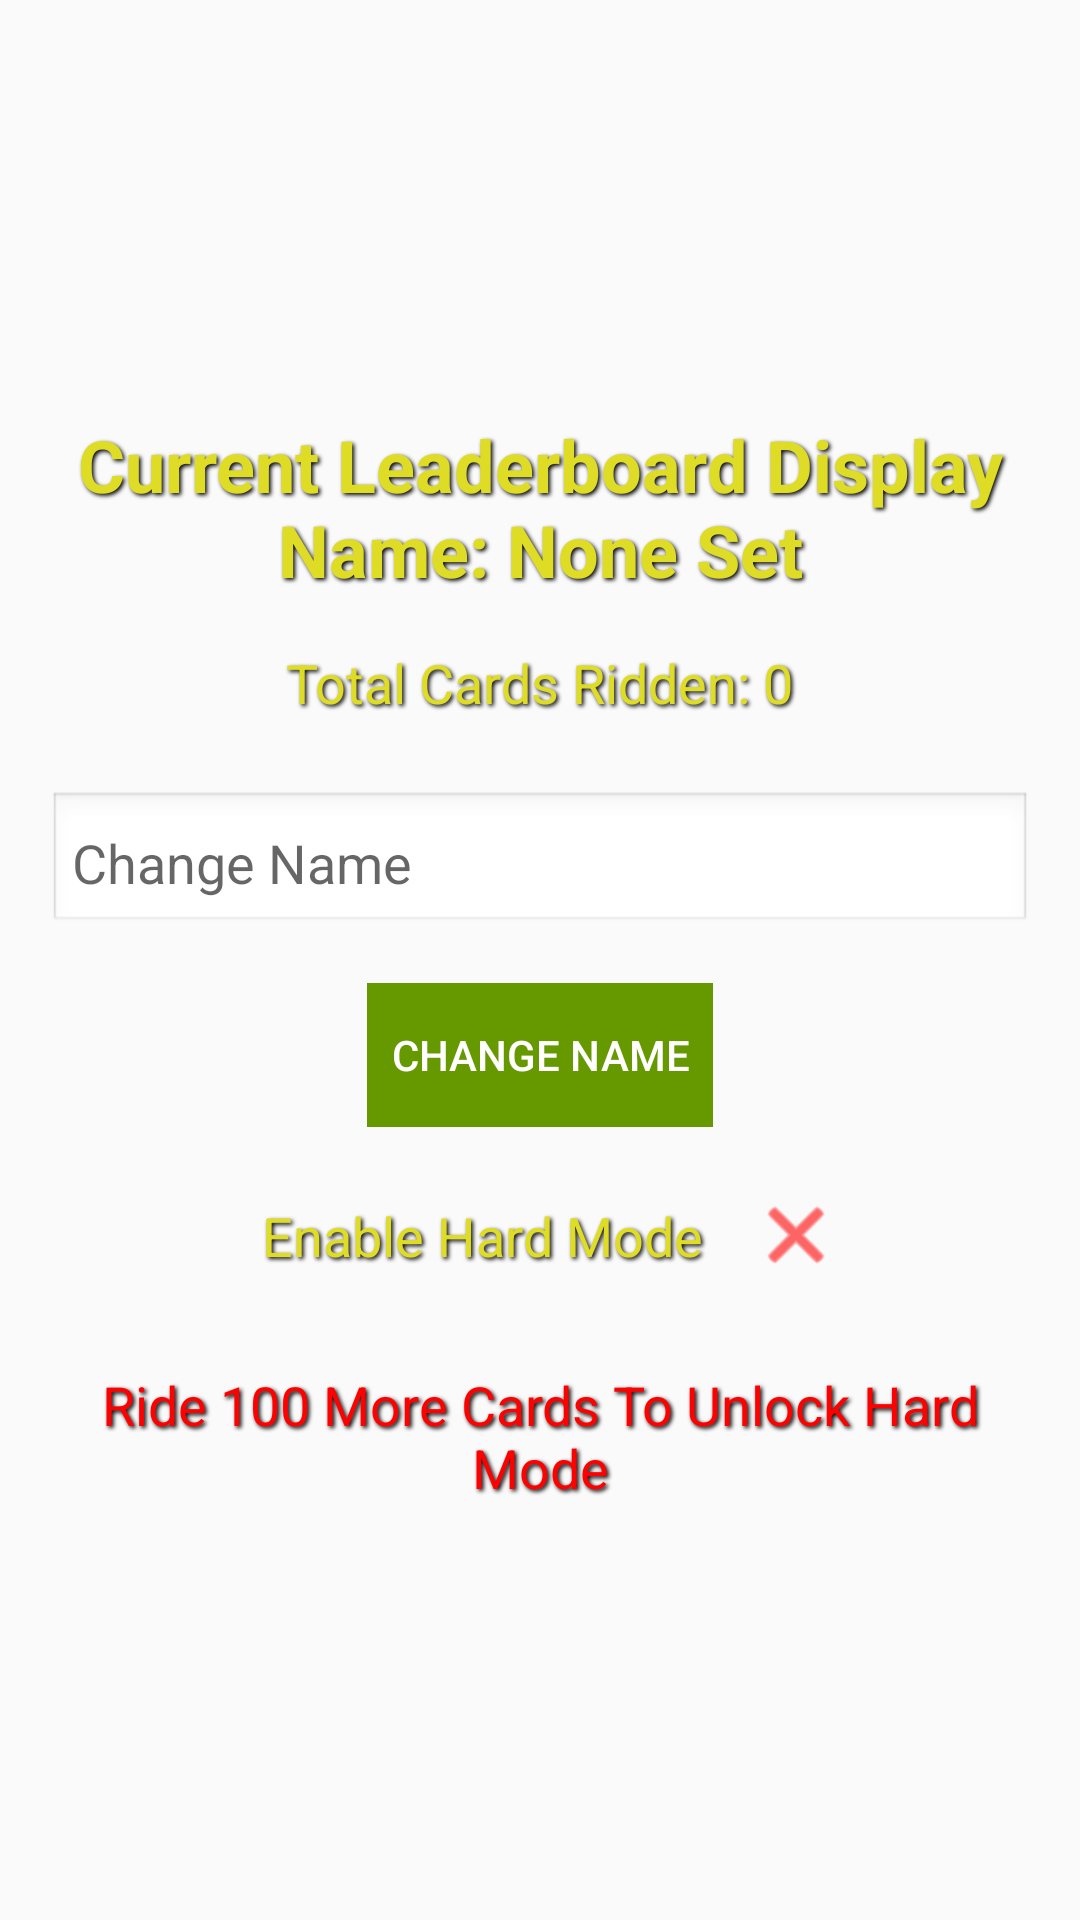

Icons on this 1080px×1920px Android screen, each with its box as [x1, y1, x2, y2]:
close clear cancel: [768, 1207, 824, 1263]
